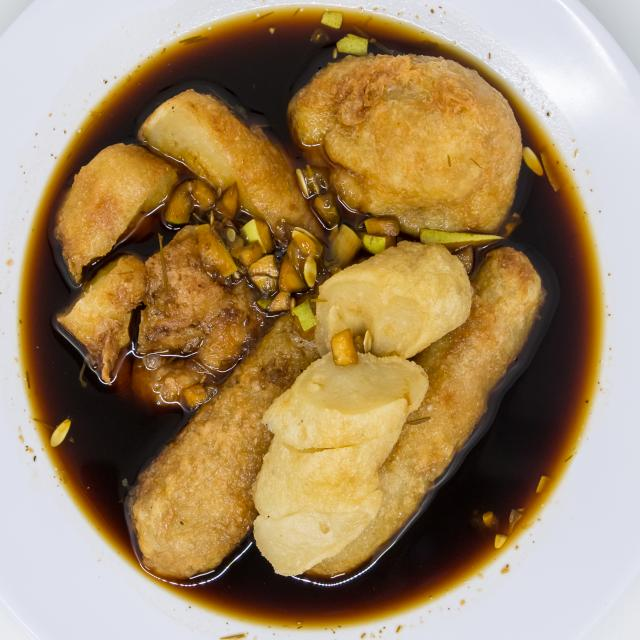Pempek-Palembang: (40, 43, 560, 595)
